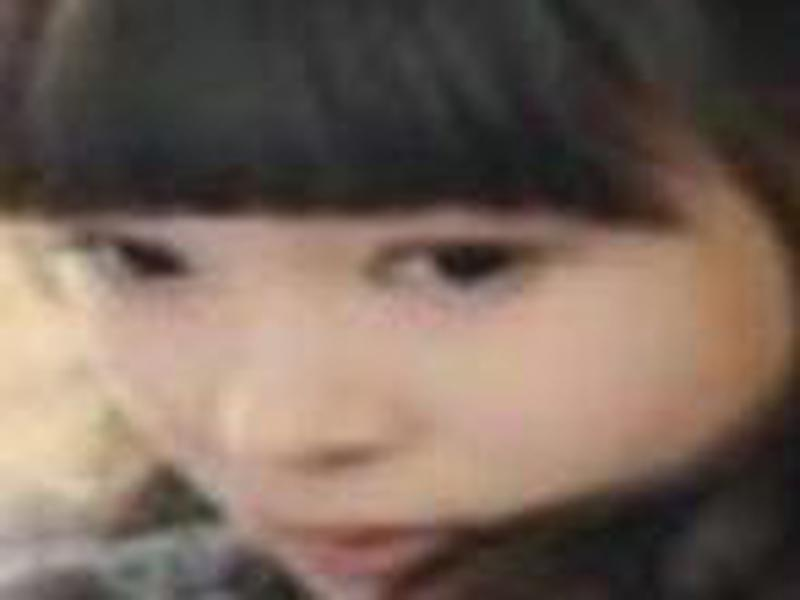without_mask: (23, 108, 782, 597)
